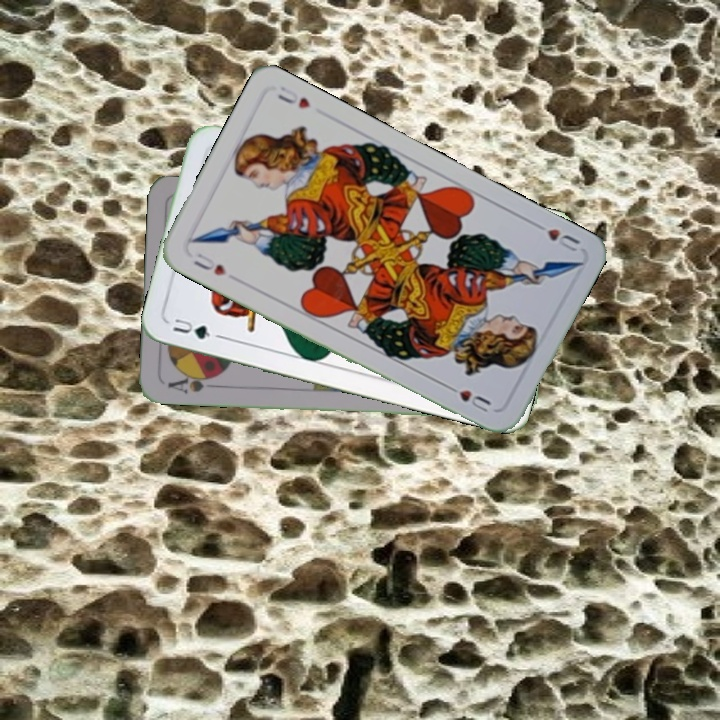GU: (169, 314, 223, 342)
HU: (530, 217, 584, 254), (189, 248, 229, 279)
SA: (164, 369, 222, 396)
